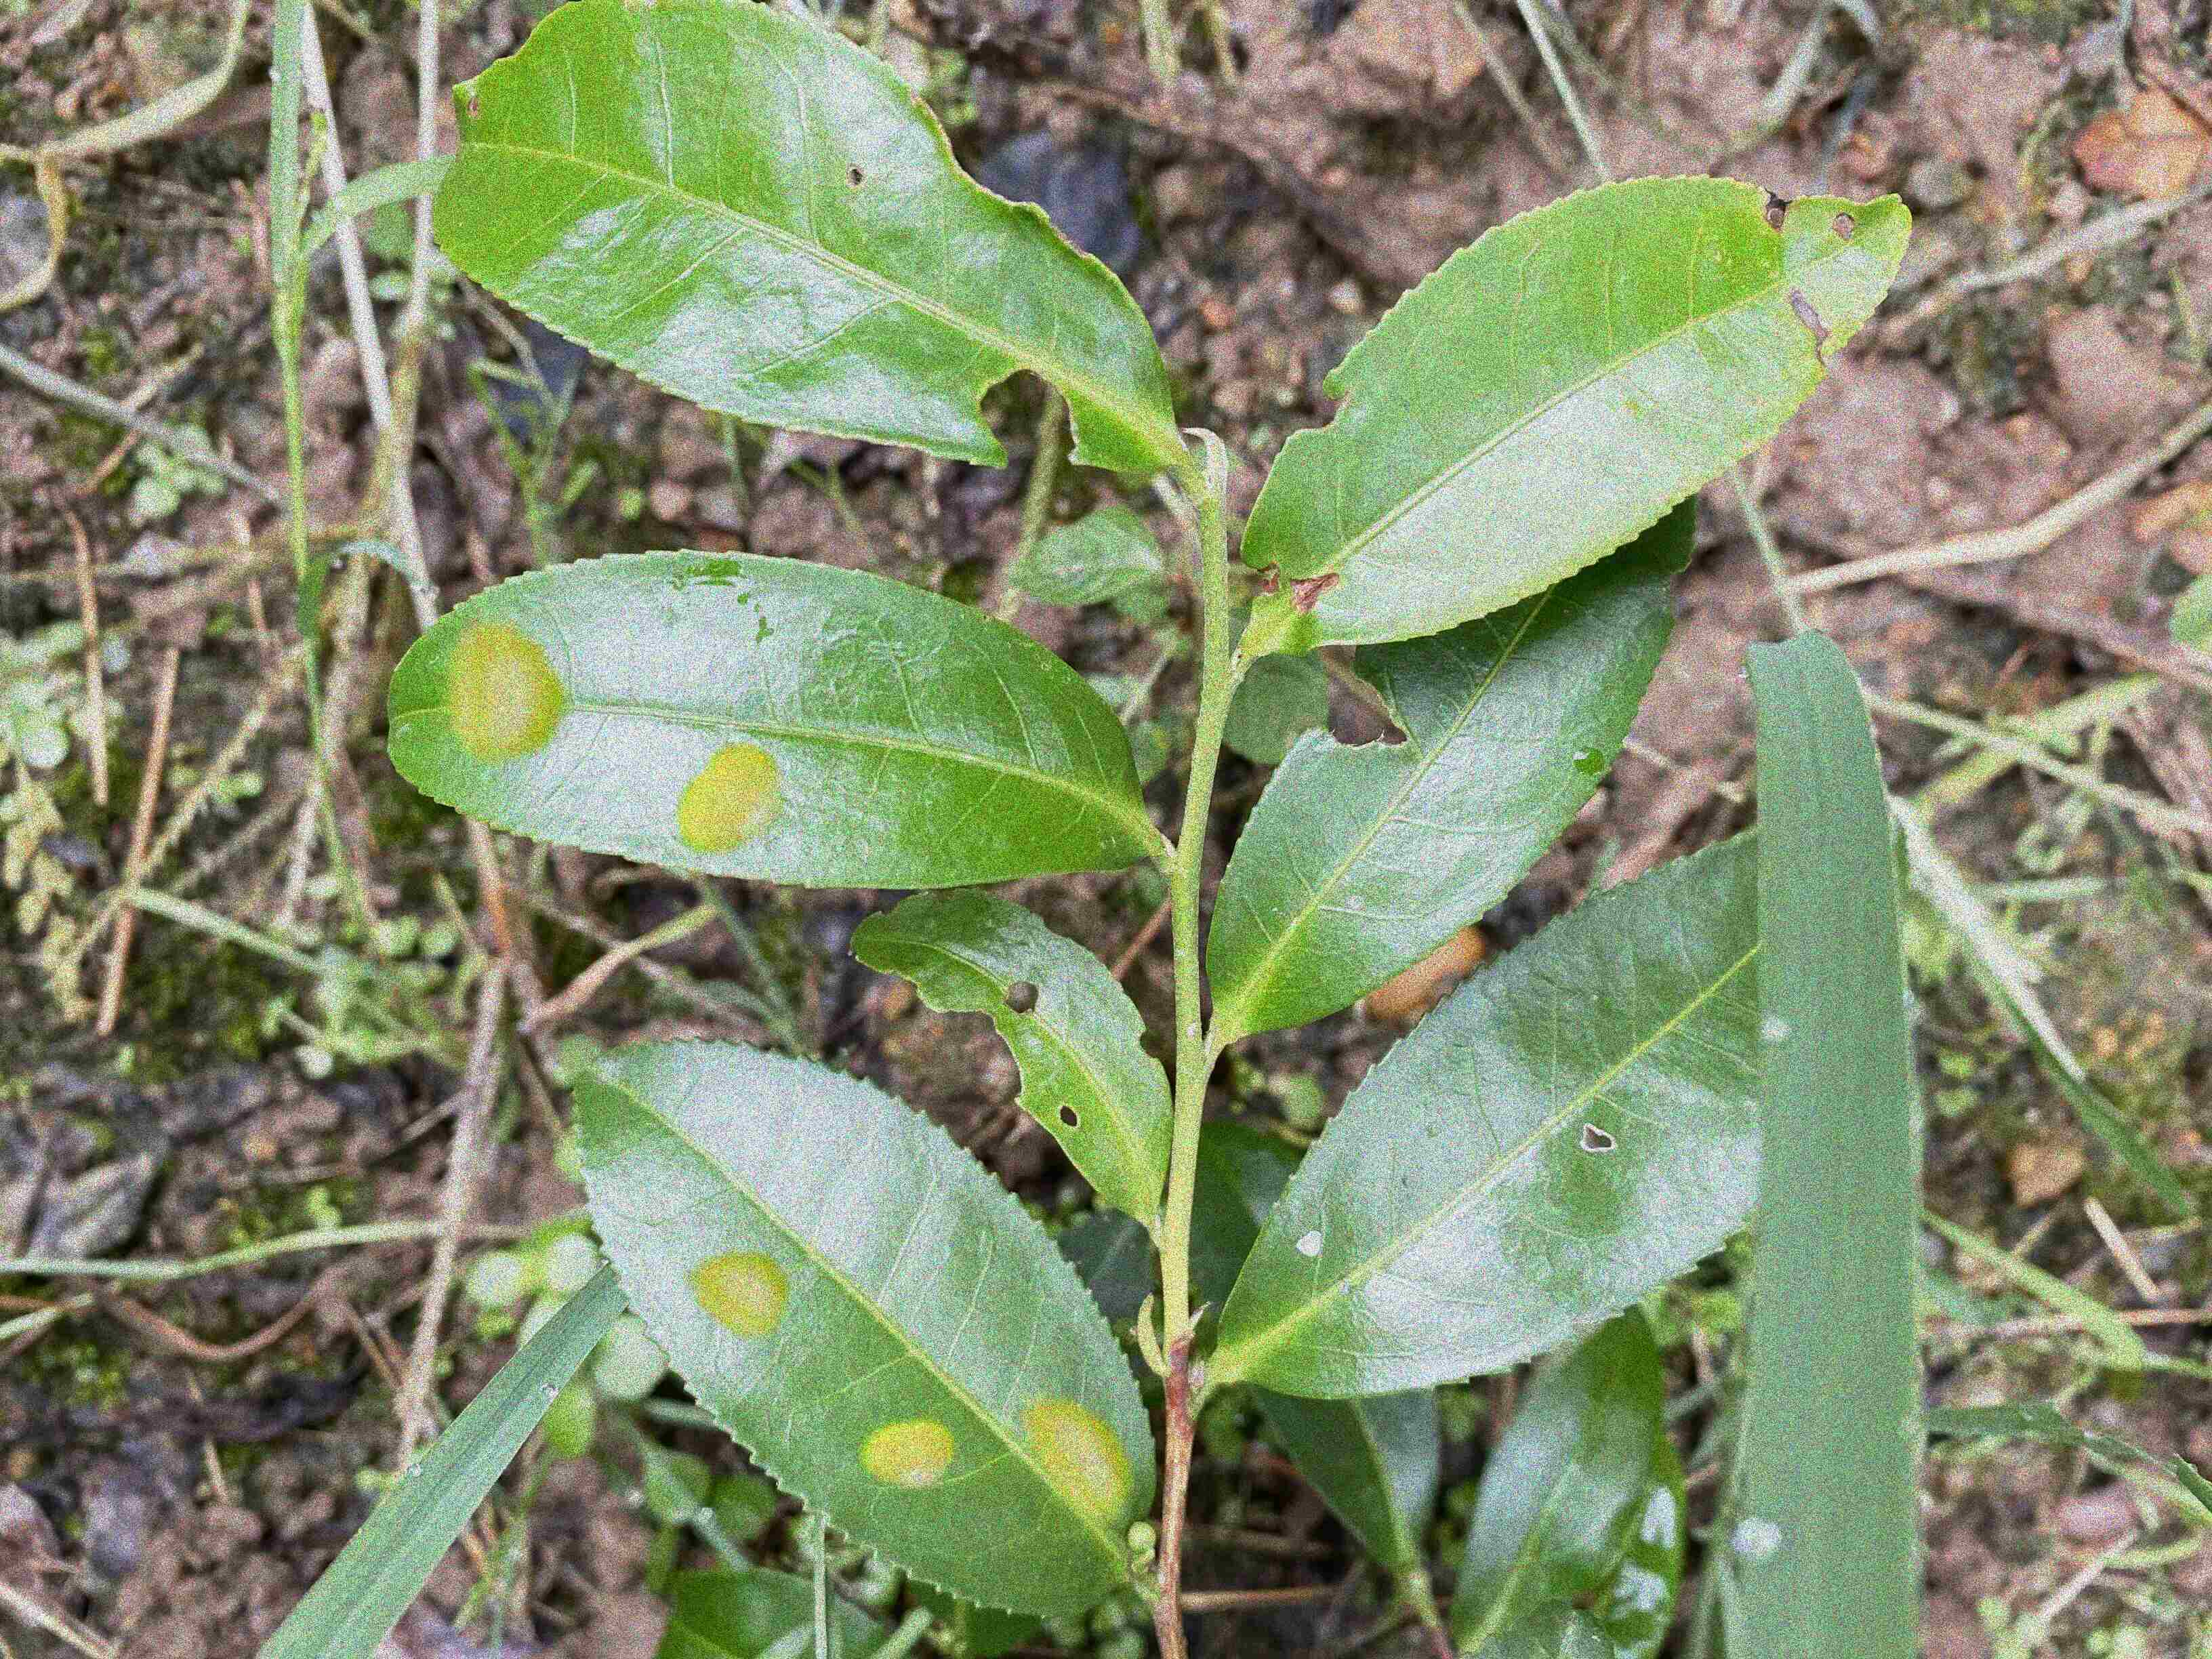chabing_high: (571, 1039, 1158, 1624), (388, 552, 1155, 887)
chihuo_high: (846, 885, 1176, 1216)
chihuo_low: (430, 9, 1184, 474), (1221, 836, 1768, 1398), (1200, 519, 1700, 1042)
tanju_low: (1237, 174, 1921, 653)
